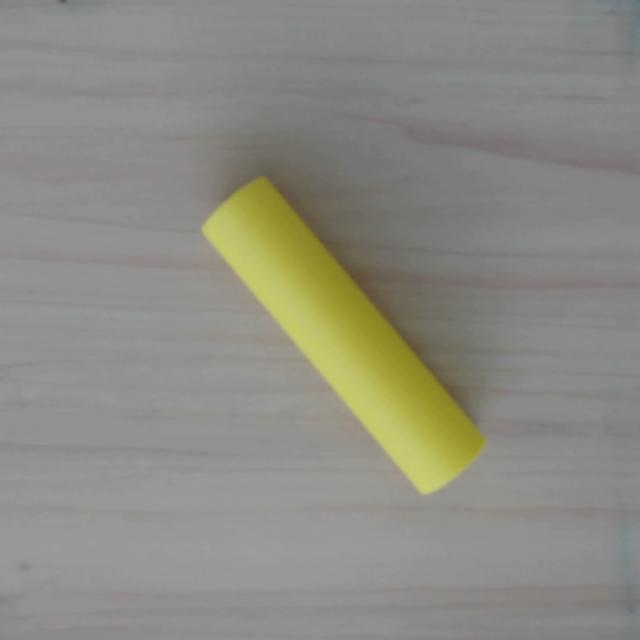Silinder-Kuning-10025: (195, 171, 493, 501)
